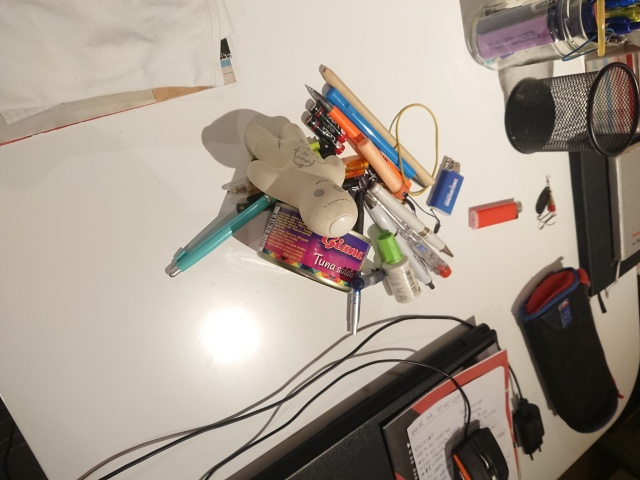Giana Tuna Salad Mexico 185g: (254, 198, 376, 297)
